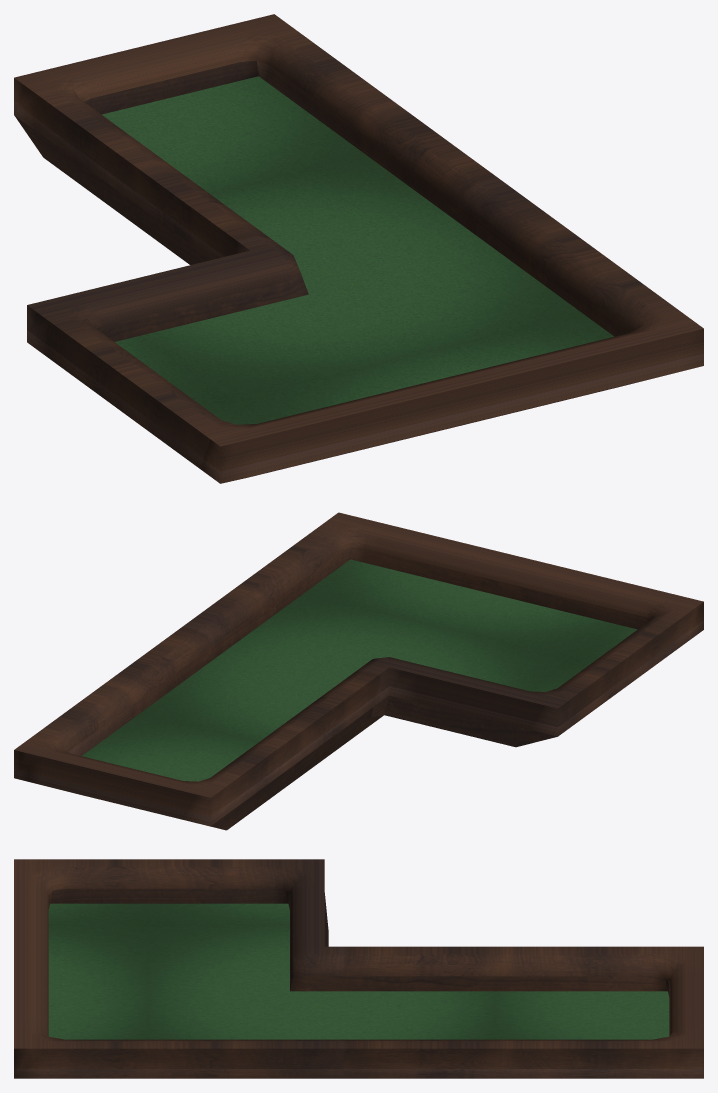
Rendered from table_2.fbx.
3 views of the same model, one above another, from view 1: azimuth 30°, elevation 25°; view 2: azimuth 150°, elevation 25°; view 3: azimuth 270°, elevation 25° (orthographic). The views are drawn at different scales.
Parts seen in each view (by area): view 1: casino_table:pPlane4; view 2: casino_table:pPlane4; view 3: casino_table:pPlane4.
Boxes of the visible parts, x1,y1,x2,y2 form: casino_table:pPlane4: (14,14,703,483); casino_table:pPlane4: (14,512,703,830); casino_table:pPlane4: (14,859,703,1078).
Size of the model in its own units: 1.3 by 0.1605 by 2.
Materials: 2 (2 with a texture image).
